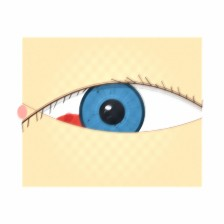hemorrhage_spot: (41, 105, 104, 155)
